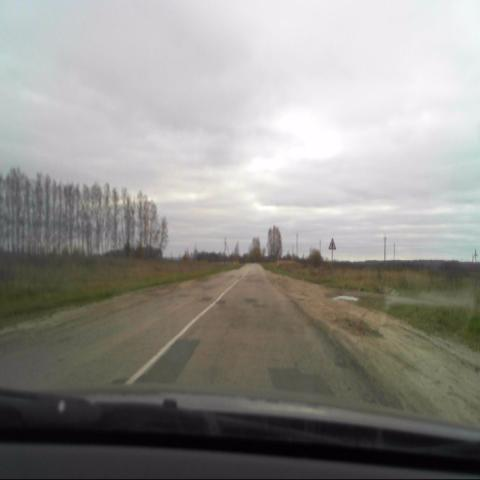2_3_3: (328, 239, 336, 252)
